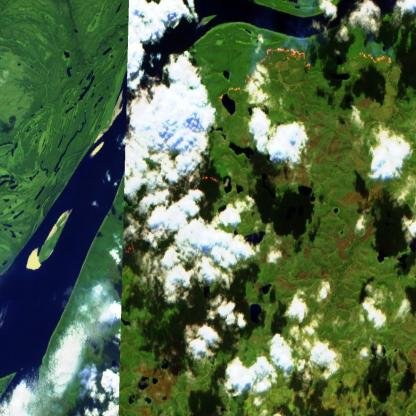fire: (225, 41, 318, 97), (170, 167, 230, 201), (338, 43, 396, 76), (121, 228, 147, 268)
